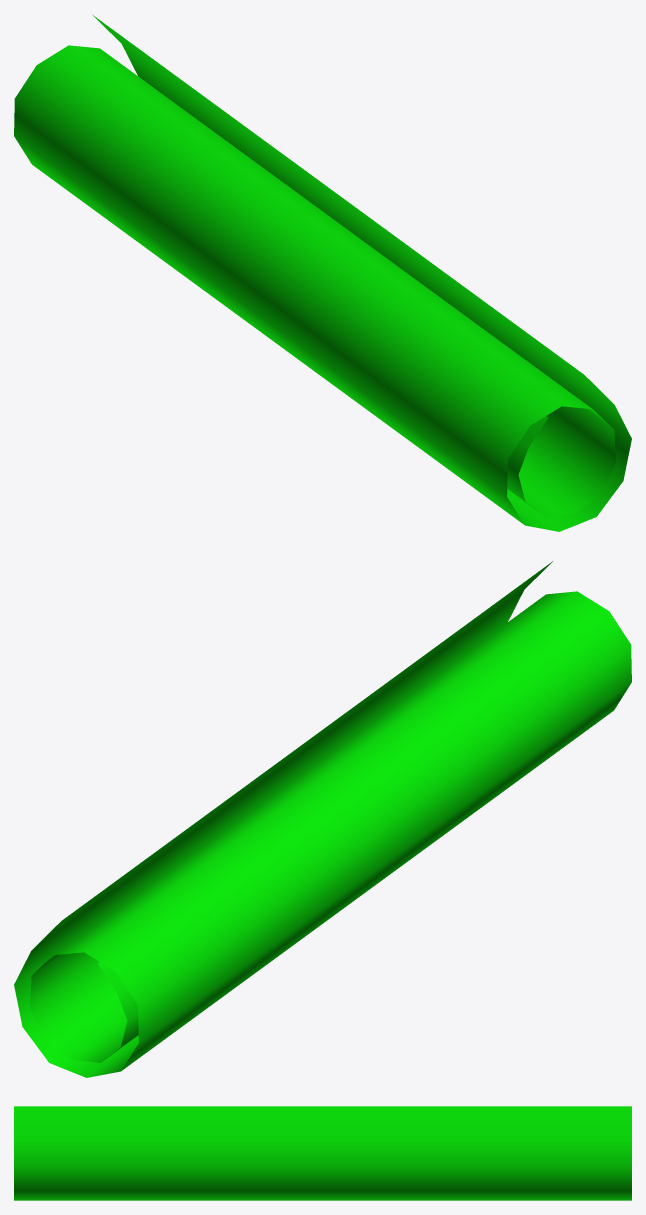
File: Scroll_Of_Forests_Final.fbx
3 renders of one model, top to bottom at view 1: azimuth 30°, elevation 25°; view 2: azimuth 150°, elevation 25°; view 3: azimuth 270°, elevation 25°, orthographic. The views are drawn at different scales.
Parts seen in each view (by area): view 1: pPlane1; view 2: pPlane1; view 3: pPlane1.
Boxes of the visible parts, bbox=[...] form: pPlane1: bbox=[14, 15, 631, 531]; pPlane1: bbox=[14, 561, 631, 1077]; pPlane1: bbox=[14, 1106, 631, 1200].
Bounding box in the file's own units: 0.9501 × 1.1 × 6.5.
